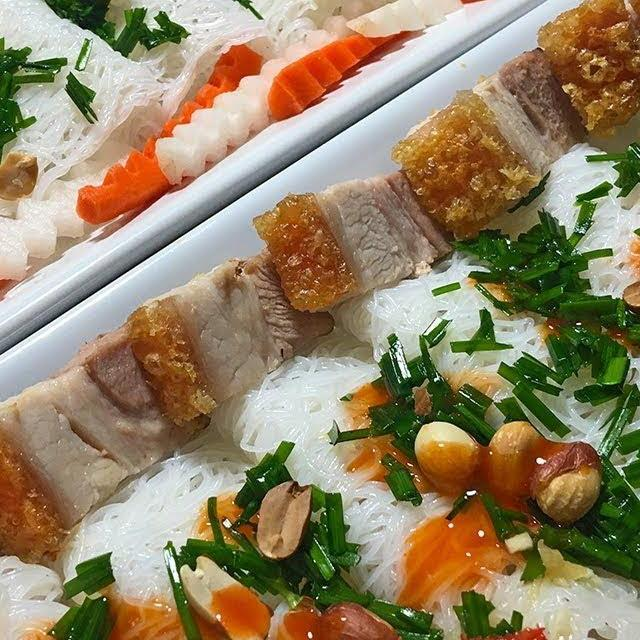banh hoi: (198, 318, 640, 640), (316, 243, 640, 608), (44, 421, 484, 640), (453, 128, 640, 501), (0, 0, 185, 198), (38, 0, 280, 138), (0, 539, 128, 640)
banh hoi heo quay: (0, 0, 640, 640)
dua chua: (146, 12, 367, 193), (70, 41, 280, 230), (0, 147, 165, 371), (260, 0, 436, 126), (341, 0, 565, 47)
thit heo quay: (0, 310, 220, 572), (382, 42, 597, 257), (120, 232, 339, 434), (244, 161, 465, 321), (528, 0, 640, 143)
